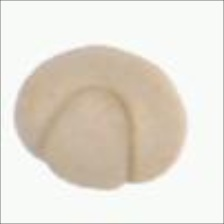L5: (34, 85, 138, 193)
L6: (11, 43, 188, 194)
